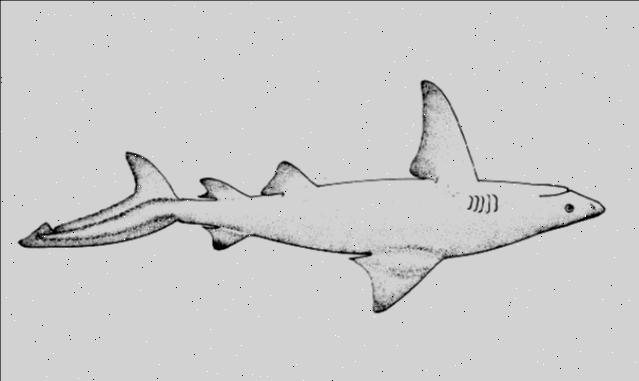Mulut: (528, 163, 578, 203)
Sirip Anal: (189, 167, 250, 258)
Sirip Dada: (403, 72, 487, 186)
Sirip Ekor: (6, 144, 178, 258)
Sirip Perut: (255, 146, 315, 204)
Sirip Punggung: (348, 249, 438, 317)
